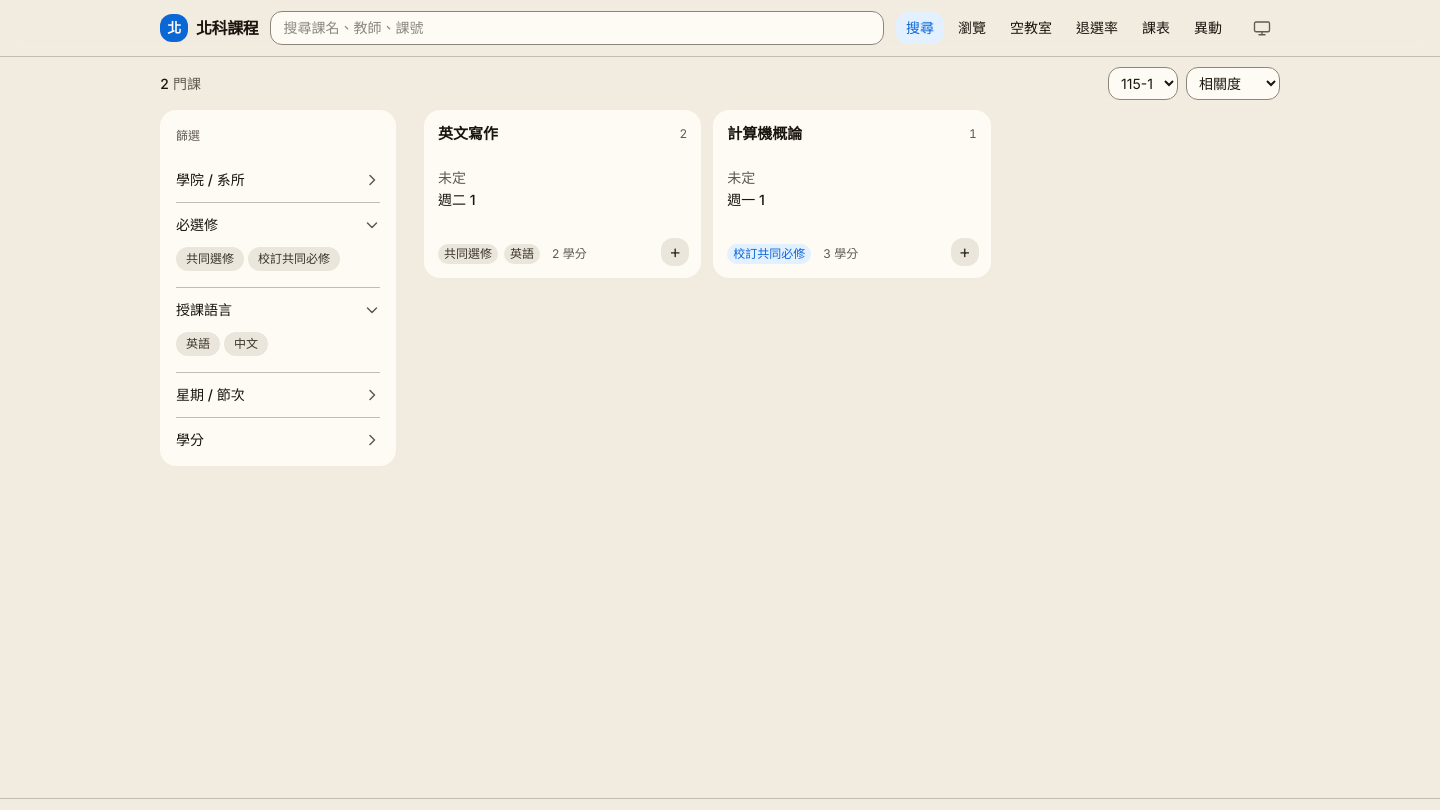
Test: /search › 在頁首輸入關鍵字會即時篩選
Expected: the text "門課" is shown, [169, 74, 201, 92]
Type "英文" into the search field named "搜尋課程" at (577, 28), box [270, 11, 884, 45]
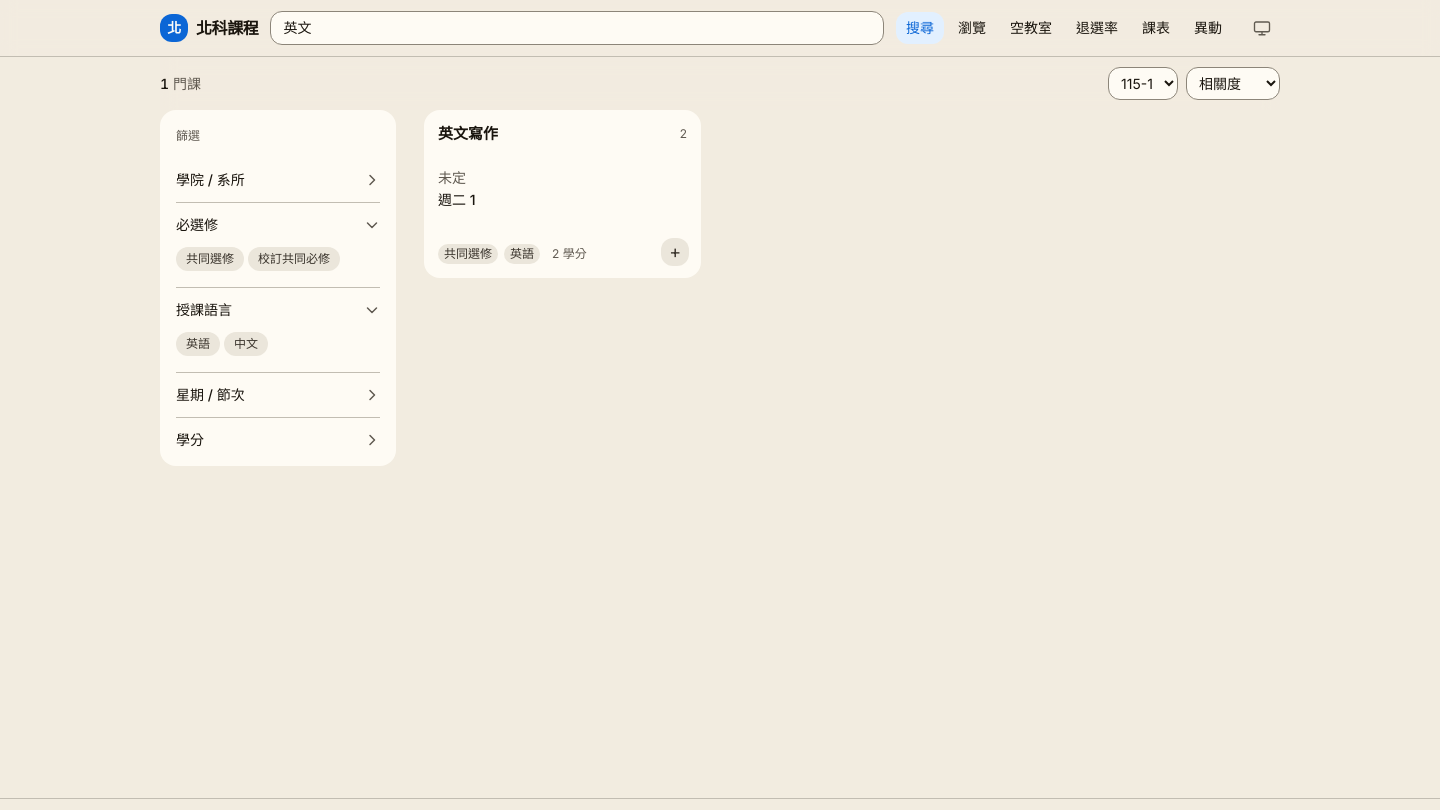
Now the element showing "1 門課" is shown, box [160, 74, 201, 92]
